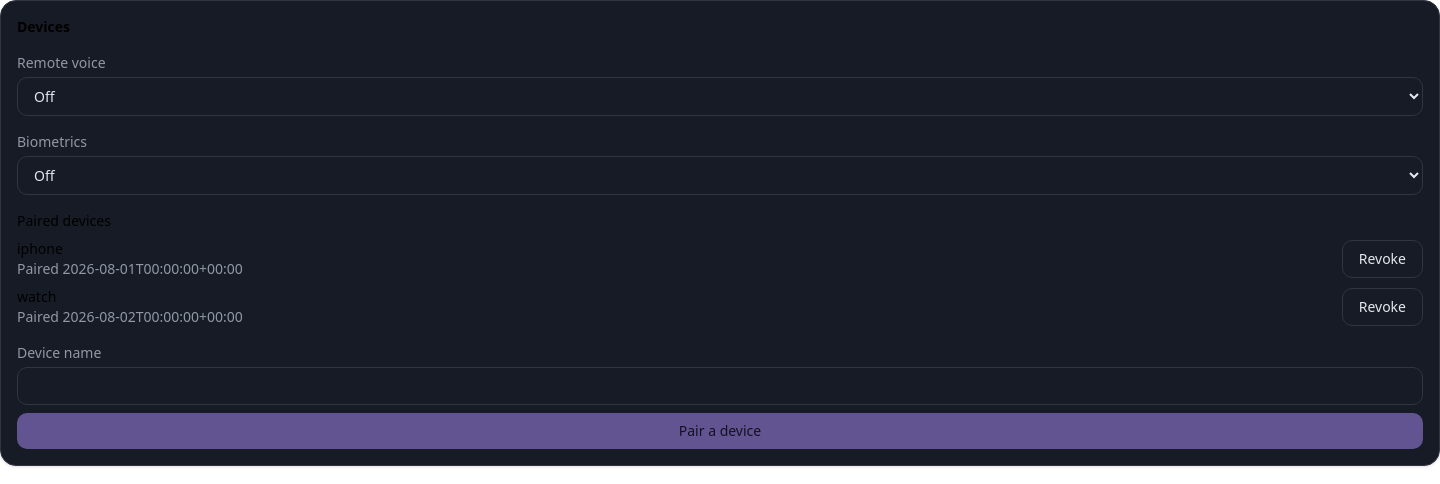
Scenario: DevicesPanel (TK-342 AC3: revoke) › revoking one of two devices removes only that one and states re-pairing is required
Check: the text "iphone" is shown, box x1=17 y1=239 x2=63 y2=258
Check: the text "watch" is shown, box x1=17 y1=287 x2=56 y2=306
// Revoke the row for "watch" (the second one, by DOM order).
What coordinates should you click on to do the following:
click the button "Revoke" in the row of "2026-08-02T00:00:00+00:00"
I would click on:
 (1382, 307)
Its box is x1=1342 y1=288 x2=1423 y2=326.
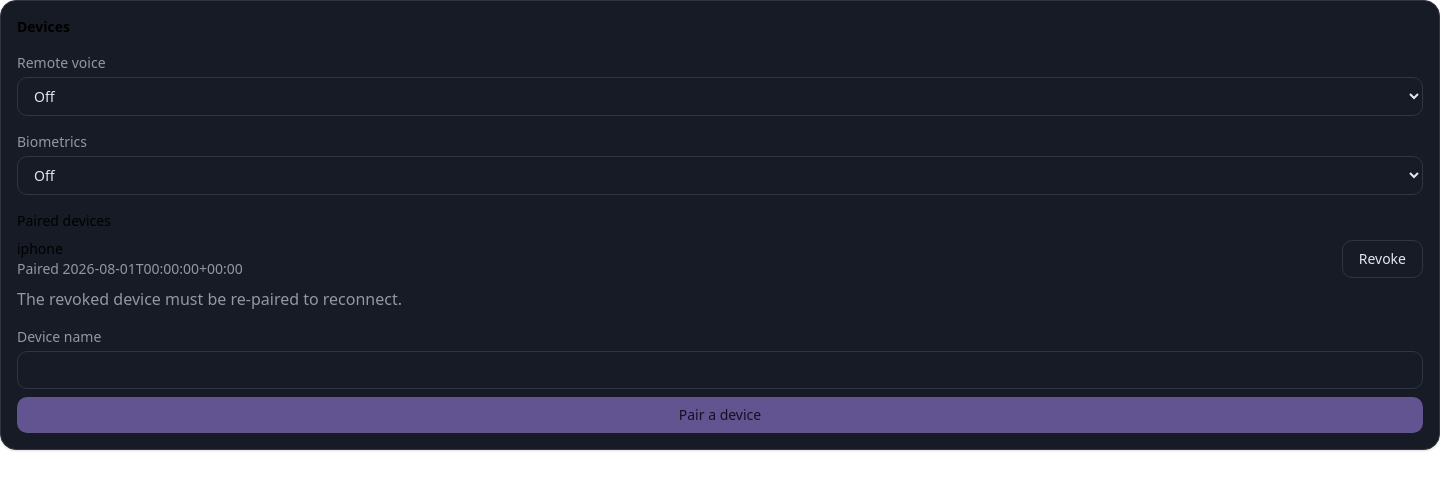
Check: the text "iphone" is shown, box x1=17 y1=239 x2=63 y2=258
Check: the text "watch" is gone
Check: the text "The revoked device must be re-paired to reconnect." is shown, box x1=17 y1=288 x2=402 y2=310
